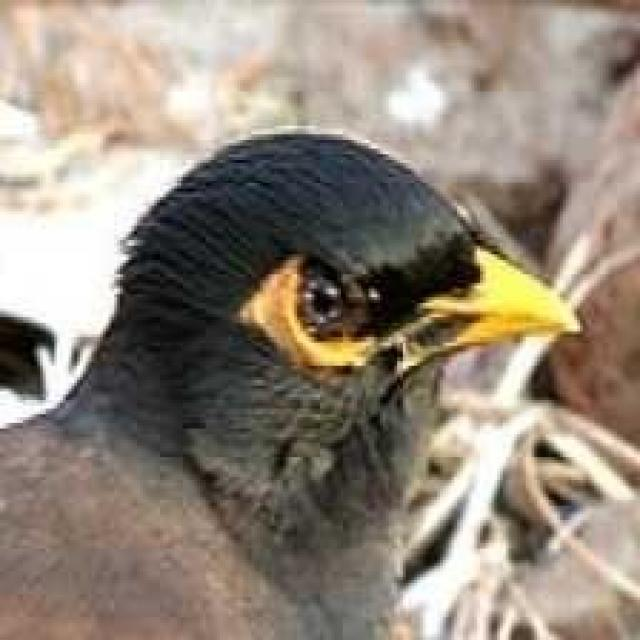bird: (0, 83, 594, 640)
